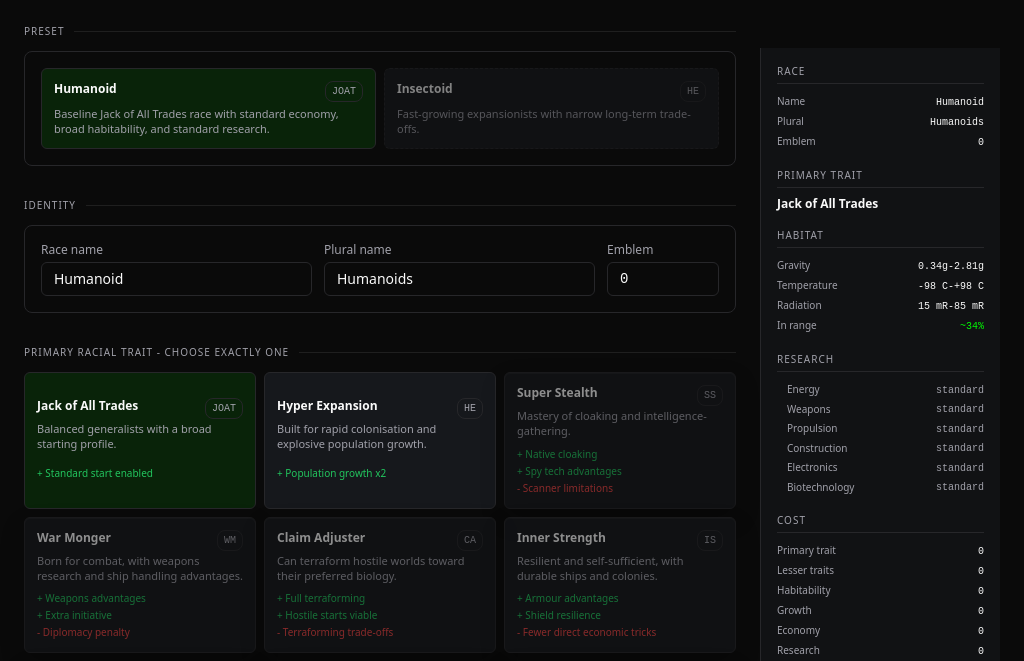
Scenario: RaceSelectionScreen › shows doubled effective growth for HE
Check: the text "Preset" is shown, box [24,24,64,39]
Click the button "Hyper Expansion". click: x=380, y=440
box: [264,372,496,509]
(page scrolled)
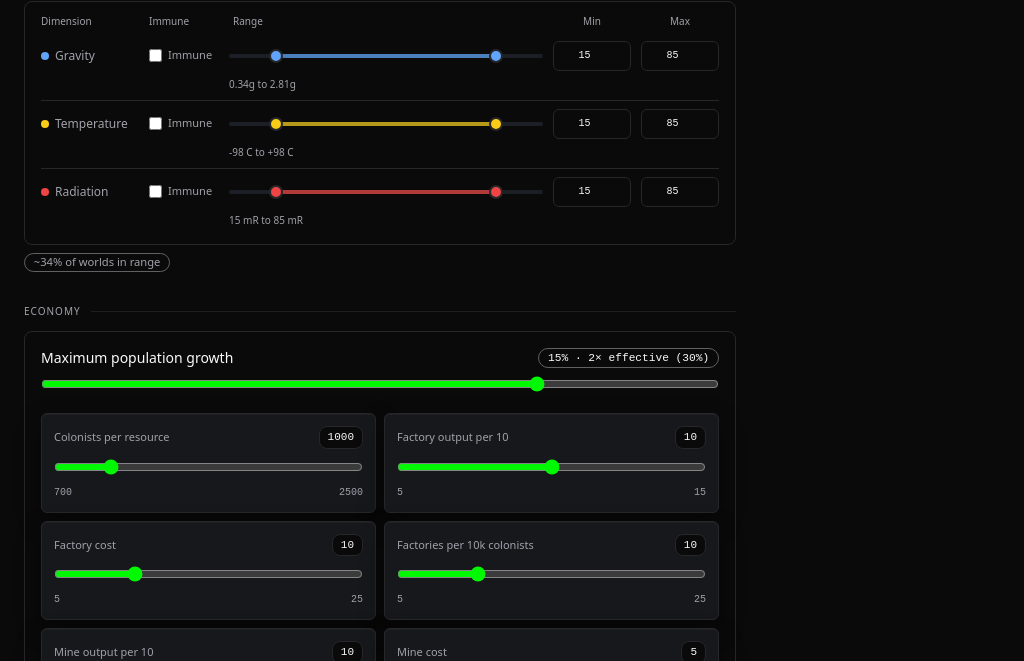
Set the slider named "Max growth rate" to "10". click: x=363, y=384
box: [41,376,719,392]
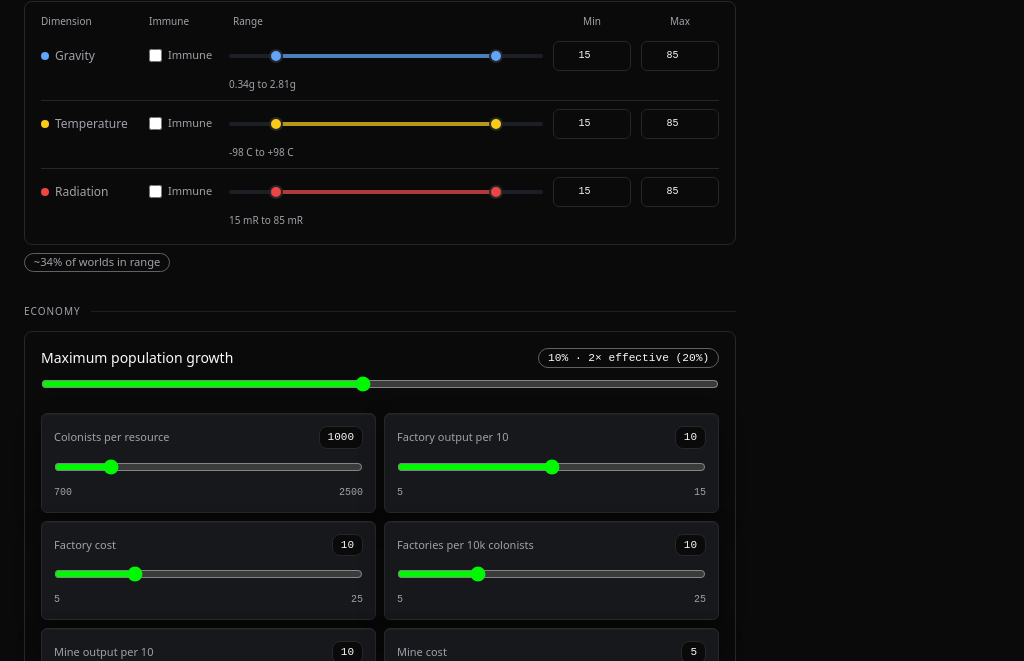
Check: the text "10% · 2× effective (20%)" is shown, box [538,348,719,368]
